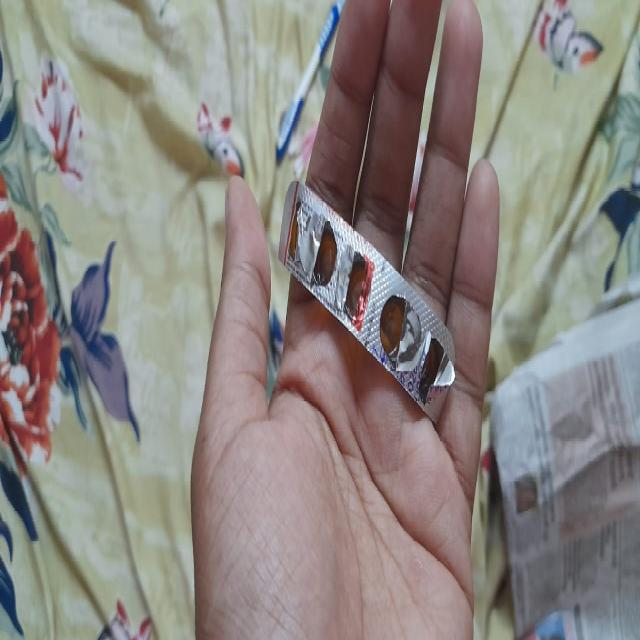Blister_Packs - Non Recyclable: (276, 176, 458, 422)
